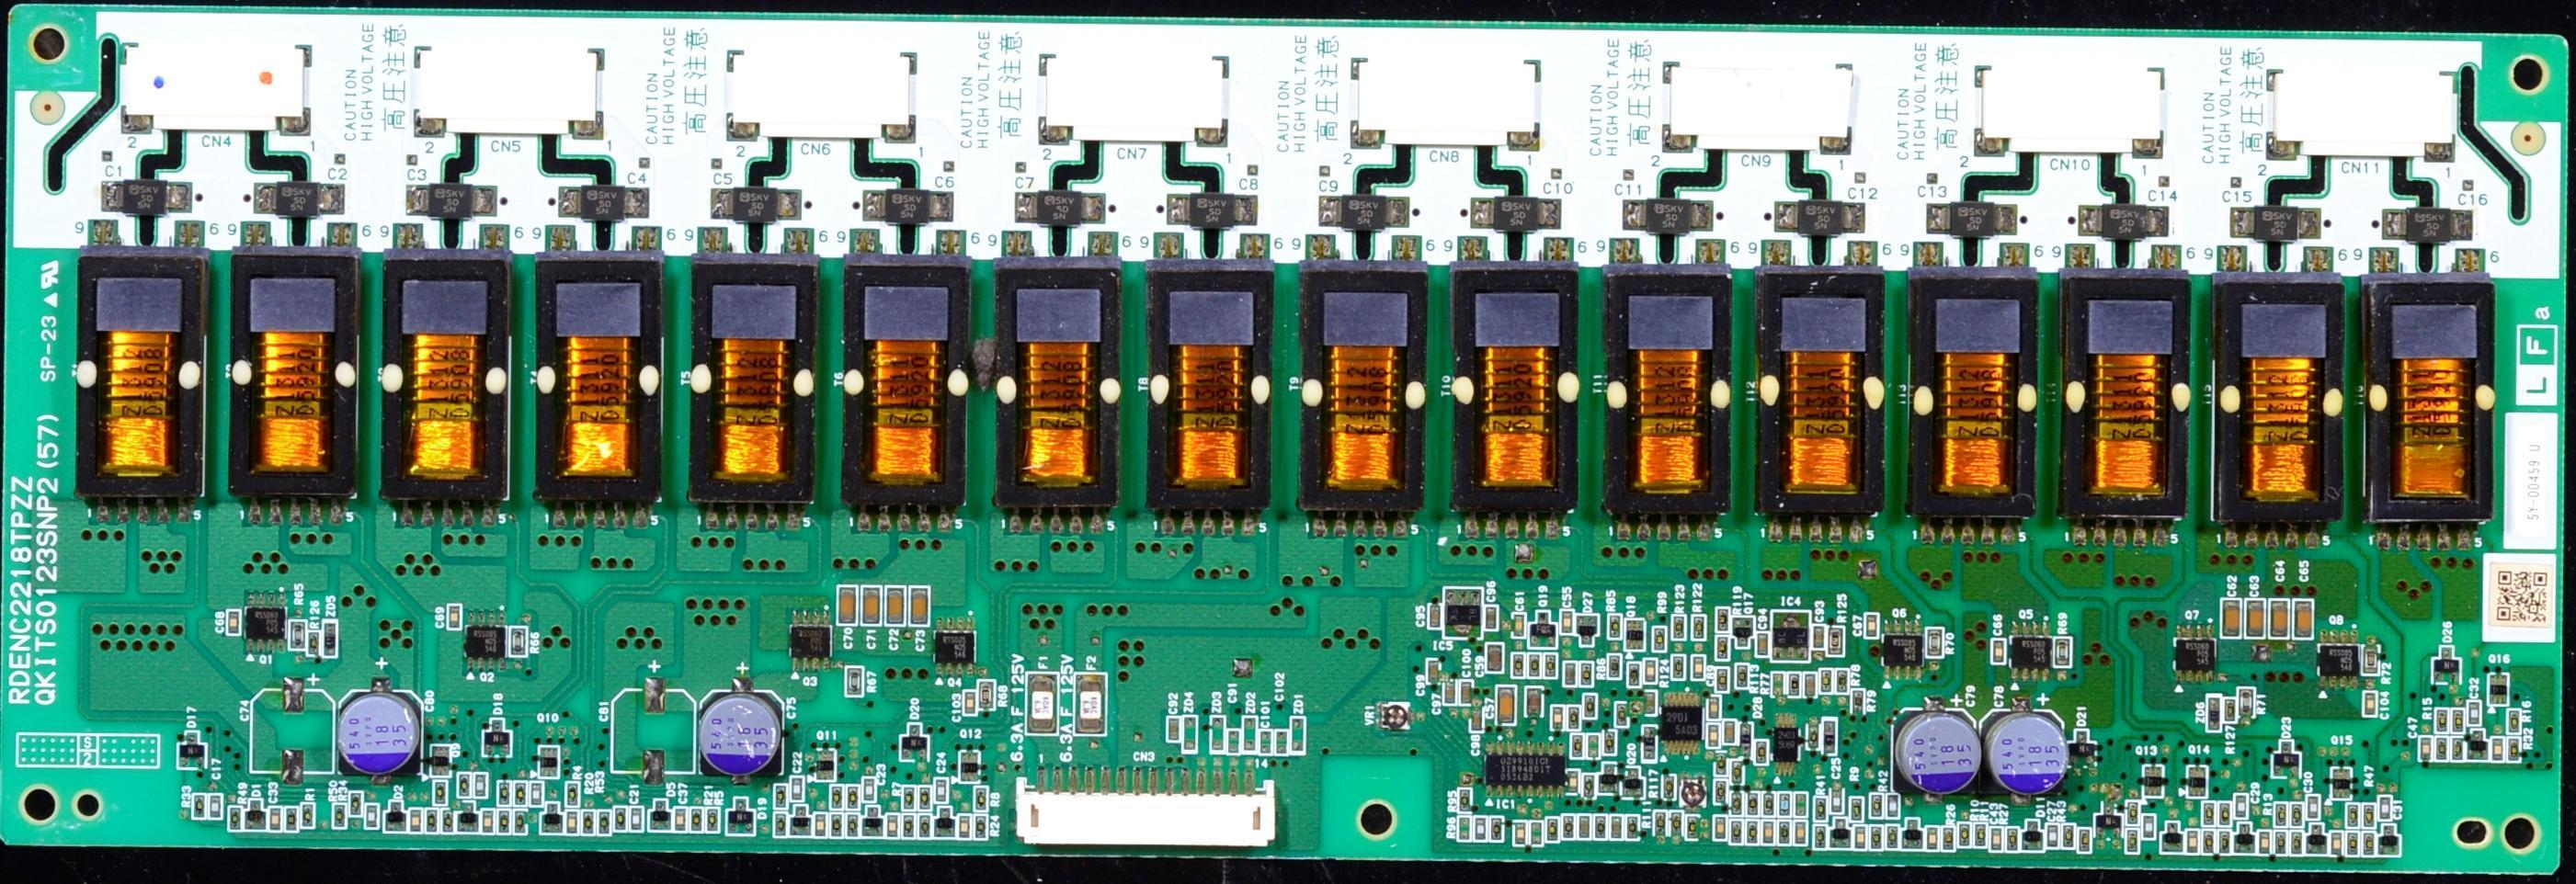Capacitor: (1896, 711, 1982, 796), (339, 690, 420, 777), (1987, 710, 2069, 796), (702, 690, 783, 776), (644, 677, 666, 787), (286, 676, 301, 786), (908, 585, 931, 626), (862, 585, 883, 626), (2220, 598, 2240, 639), (837, 586, 858, 626), (884, 587, 905, 626), (2292, 601, 2313, 640), (2270, 599, 2289, 640), (1498, 686, 1517, 724), (2245, 599, 2264, 638), (1524, 686, 1544, 718), (1487, 642, 1503, 672), (290, 621, 306, 649), (789, 776, 804, 801), (1793, 821, 1809, 845), (2234, 794, 2249, 822), (1705, 697, 1721, 721), (480, 809, 496, 833), (2363, 691, 2377, 718), (934, 777, 950, 804), (1829, 787, 1844, 813), (1864, 614, 1881, 638), (1723, 719, 1737, 745), (1427, 603, 1442, 628), (227, 611, 242, 636), (963, 691, 978, 717), (2306, 796, 2320, 821), (565, 810, 579, 835), (2141, 815, 2155, 840), (1761, 820, 1775, 844), (1853, 825, 1868, 850), (1989, 826, 2003, 851), (2185, 830, 2199, 854), (1484, 605, 1497, 630), (1512, 611, 1527, 638), (308, 629, 320, 655), (1645, 658, 1658, 684), (1167, 715, 1180, 742), (1260, 730, 1273, 755), (2420, 736, 2434, 762), (2378, 795, 2391, 822), (631, 806, 644, 832), (958, 814, 972, 839), (1474, 815, 1487, 842), (1513, 821, 1527, 845), (2045, 822, 2058, 849), (1926, 825, 1939, 852), (1559, 610, 1573, 635), (1428, 659, 1441, 683), (2468, 700, 2481, 725), (1471, 707, 1483, 731), (1706, 722, 1720, 747), (1274, 731, 1288, 755), (863, 776, 876, 802), (409, 807, 423, 832), (815, 813, 828, 838), (449, 603, 461, 630), (675, 806, 687, 833), (1813, 623, 1826, 650), (1692, 654, 1704, 680), (1564, 662, 1577, 685), (1443, 681, 1456, 707), (1551, 707, 1564, 730), (210, 793, 222, 820), (270, 805, 282, 831), (1715, 815, 1727, 841), (2259, 831, 2273, 855), (2330, 831, 2342, 855), (1757, 631, 1768, 655), (1992, 639, 2005, 663), (1226, 730, 1238, 754), (2491, 738, 2504, 762), (1567, 770, 1578, 794), (1463, 681, 1472, 702), (888, 813, 899, 835)
Connector: (1017, 765, 1276, 844)
IC: (1487, 742, 1566, 794), (1660, 691, 1705, 754), (1772, 611, 1810, 662), (1776, 716, 1804, 776)
Resistor: (508, 626, 529, 657), (844, 664, 863, 698), (1925, 627, 1943, 658), (975, 681, 995, 711), (2239, 687, 2255, 719), (2364, 645, 2380, 675), (2055, 639, 2072, 667), (1745, 820, 1761, 846), (1652, 627, 1667, 653), (1526, 652, 1541, 680), (565, 780, 580, 809), (348, 789, 363, 817), (1850, 796, 1864, 822), (498, 781, 514, 806), (2273, 802, 2288, 826), (2361, 832, 2377, 856), (1544, 652, 1558, 678), (1608, 653, 1624, 680), (2223, 697, 2237, 722), (1615, 702, 1629, 728), (2435, 707, 2449, 733), (1663, 774, 1677, 800), (433, 780, 448, 807), (774, 784, 788, 810), (918, 786, 932, 811), (613, 806, 627, 832), (774, 812, 788, 838), (1625, 815, 1640, 841), (1869, 824, 1884, 851), (2219, 829, 2234, 854), (1458, 789, 1475, 812), (2346, 833, 2362, 856), (1715, 607, 1729, 633), (1671, 616, 1685, 640), (1715, 636, 1729, 660), (1584, 694, 1598, 719), (2450, 708, 2465, 733), (847, 785, 861, 810), (974, 788, 989, 812), (1730, 791, 1744, 816), (1870, 793, 1884, 819), (192, 794, 208, 819), (2289, 801, 2304, 827), (2202, 802, 2216, 827), (442, 809, 456, 833), (597, 810, 611, 835), (1957, 822, 1971, 848), (1886, 825, 1900, 849), (2126, 829, 2140, 853), (2274, 831, 2288, 856), (1511, 652, 1524, 679), (1819, 668, 1832, 695), (2435, 736, 2448, 762), (1754, 740, 1768, 765), (458, 773, 471, 799), (829, 784, 843, 810), (1813, 796, 1827, 822), (2126, 799, 2139, 826), (230, 806, 244, 831), (707, 807, 720, 833), (581, 809, 595, 835), (2006, 827, 2020, 853), (1627, 663, 1642, 686), (1567, 706, 1581, 730), (847, 813, 861, 837), (1609, 614, 1621, 639), (1672, 655, 1685, 681), (1717, 667, 1729, 692), (1836, 668, 1850, 694), (1571, 734, 1584, 759), (1714, 753, 1727, 776), (1730, 761, 1743, 785), (514, 781, 527, 805), (1762, 792, 1776, 816), (1747, 792, 1760, 817), (2218, 802, 2231, 827), (2345, 803, 2360, 828), (301, 803, 314, 828), (1655, 810, 1668, 834), (1669, 811, 1682, 836), (919, 813, 933, 838), (1593, 815, 1607, 839), (1975, 822, 1988, 847), (2079, 828, 2092, 853), (2203, 830, 2216, 855), (2451, 738, 2464, 761), (2507, 737, 2521, 761), (903, 785, 916, 811), (425, 808, 438, 834), (831, 813, 844, 837), (975, 815, 986, 841), (1459, 816, 1471, 843), (1730, 820, 1743, 844), (1943, 825, 1954, 852), (2288, 831, 2302, 854), (1580, 663, 1592, 686), (1772, 673, 1784, 697), (2508, 709, 2520, 734), (333, 803, 346, 828), (2363, 804, 2375, 829), (691, 807, 703, 831), (1687, 815, 1698, 839), (1546, 818, 1557, 843), (1814, 826, 1827, 848), (1583, 774, 1595, 798), (1715, 780, 1727, 804), (903, 813, 916, 837), (2063, 824, 2075, 848), (1562, 813, 1573, 840), (1736, 663, 1747, 688), (1693, 614, 1704, 638), (1852, 688, 1863, 712), (1604, 730, 1615, 753), (1491, 816, 1502, 840)
Transistor: (791, 608, 833, 672), (246, 590, 287, 654), (933, 615, 978, 674), (1883, 618, 1923, 680), (2319, 631, 2363, 689), (2012, 618, 2051, 680), (465, 612, 505, 670), (2177, 624, 2215, 685), (1444, 587, 1483, 640), (952, 744, 986, 785), (1528, 608, 1558, 648), (1596, 763, 1623, 796), (2329, 767, 2353, 801), (2185, 765, 2209, 798), (2141, 764, 2164, 798), (1621, 765, 1645, 798), (2487, 673, 2509, 707), (430, 743, 452, 777), (539, 746, 560, 780), (815, 748, 837, 781), (1624, 619, 1646, 651)
